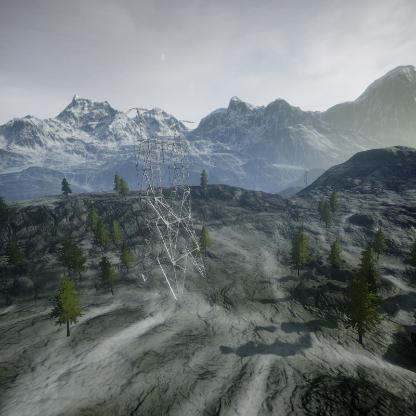tower: (121, 106, 204, 291)
